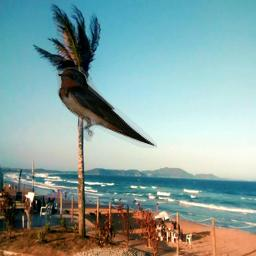Swallow: (55, 67, 157, 148)
